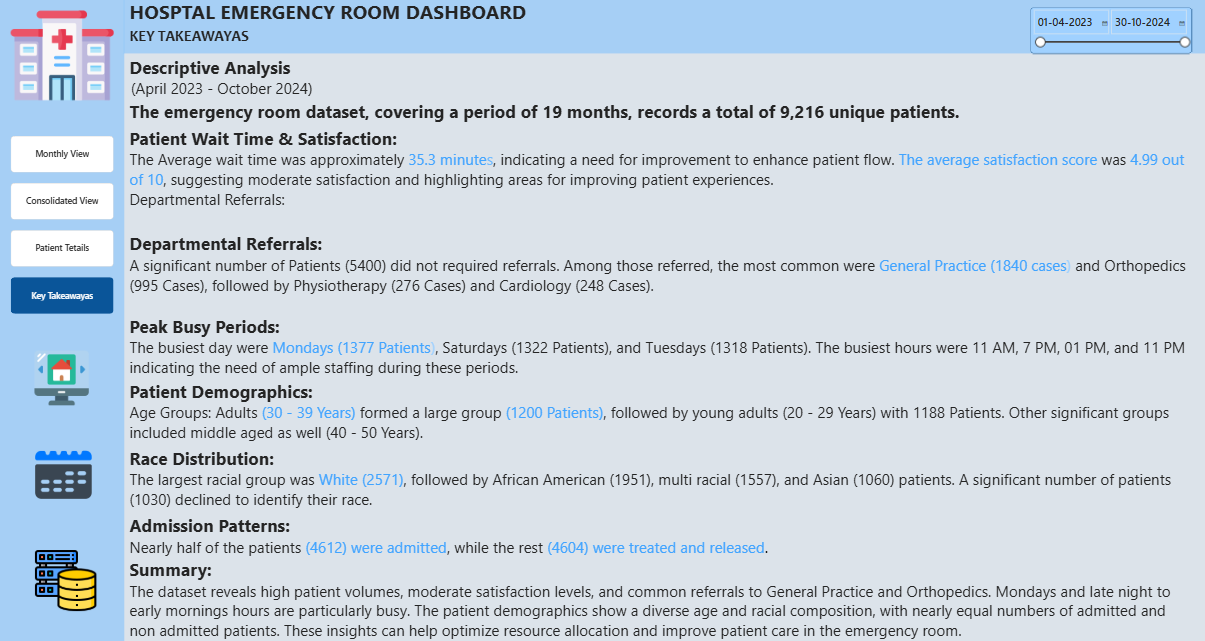

Layout of this report page (visuals, bound fields, positions):
{"tool":"powerbi","page":{"name":"Key Takeawayas","canvas":[3000,1600],"ordinal":3},"visuals":[{"type":"shape","box":[0,0,311,1700],"z":0},{"type":"shape","box":[307.5,0,2691.7,138.2],"z":1000},{"type":"textbox","box":[324.9,0,1220.5,87.8],"z":2000},{"type":"textbox","box":[324.2,73.7,327.1,64.8],"z":3000},{"type":"slicer","fields":{"Values":["Data Table.Date"]},"box":[2563.8,24.2,400.8,114],"z":4000},{"type":"image","box":[26.5,0,256.4,285.9],"z":5000},{"type":"textbox","box":[311,145.1,2608.7,107.1],"z":6000},{"type":"textbox","box":[324.8,145.1,608.1,107.1],"z":7000},{"type":"textbox","box":[324.8,252.2,2639.8,69.1],"z":8000},{"type":"textbox","box":[324.8,321.3,2639.8,259.1],"z":9000},{"type":"textbox","box":[324.8,580.5,2639.8,203.9],"z":10000},{"type":"textbox","box":[324.8,784.3,2639.8,162.4],"z":11000},{"type":"textbox","box":[324.8,946.7,2639.8,165.9],"z":12000},{"type":"textbox","box":[324.8,1112.6,2639.8,169.3],"z":13000},{"type":"textbox","box":[324.8,1281.9,2639.8,169.3],"z":14000},{"type":"textbox","box":[324.8,1392.5,2639.8,269.5],"z":15000},{"type":"pageNavigator","box":[29.3,341.5,256.4,442.1],"z":16000},{"type":"image","box":[6.5,878,300.6,135.6],"z":17000},{"type":"image","box":[9.8,1112.2,300.6,141.5],"z":18000},{"type":"image","box":[22.8,1365.9,282.9,162.1],"z":19000}]}

Visuals, with their boxes on the page's 3000x1600 design canvas (x1, y1, x2, y2). These are canvas units, not pixel positions in the 1205x641 screenshot, which may show the page scaled, cropped or inside an application window:
shape: left=0, top=0, right=311, bottom=1700
shape: left=308, top=0, right=2999, bottom=138
textbox: left=325, top=0, right=1545, bottom=88
textbox: left=324, top=74, right=651, bottom=138
slicer - Data Table.Date: left=2564, top=24, right=2965, bottom=138
image: left=26, top=0, right=283, bottom=286
textbox: left=311, top=145, right=2920, bottom=252
textbox: left=325, top=145, right=933, bottom=252
textbox: left=325, top=252, right=2965, bottom=321
textbox: left=325, top=321, right=2965, bottom=580
textbox: left=325, top=580, right=2965, bottom=784
textbox: left=325, top=784, right=2965, bottom=947
textbox: left=325, top=947, right=2965, bottom=1113
textbox: left=325, top=1113, right=2965, bottom=1282
textbox: left=325, top=1282, right=2965, bottom=1451
textbox: left=325, top=1392, right=2965, bottom=1662
pageNavigator: left=29, top=342, right=286, bottom=784
image: left=6, top=878, right=307, bottom=1014
image: left=10, top=1112, right=310, bottom=1254
image: left=23, top=1366, right=306, bottom=1528
